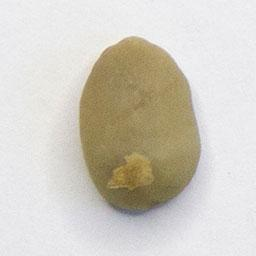premium: (75, 33, 205, 216)
